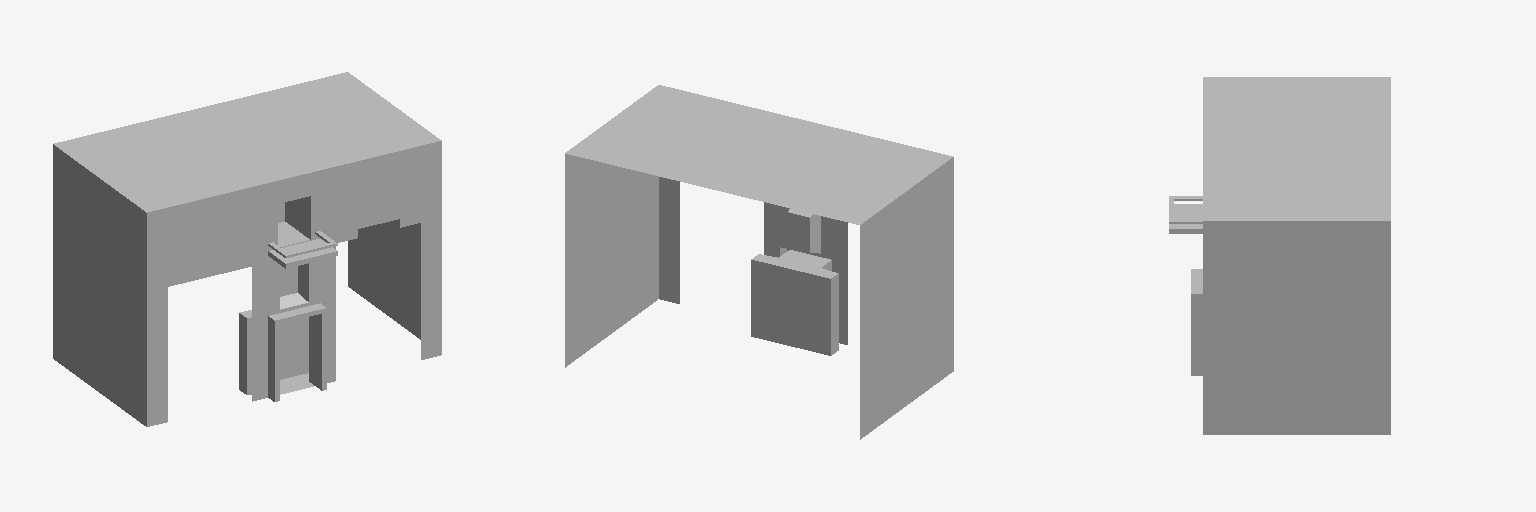
File: SietchTabrBase.obj
3 views of the same model, side by side, from view 1: azimuth 30°, elevation 25°; view 2: azimuth 150°, elevation 25°; view 3: azimuth 270°, elevation 25° (orthographic).
Parts seen in each view (by area): view 1: Cube_Cube.001; view 2: Cube_Cube.001; view 3: Cube_Cube.001.
Boxes of the visible parts, box(x1,y1,x2,y2) form: Cube_Cube.001: box(53, 72, 441, 426); Cube_Cube.001: box(565, 85, 953, 439); Cube_Cube.001: box(1169, 77, 1390, 434).
Size of the model in its own units: 60 by 41.7 by 39.23.